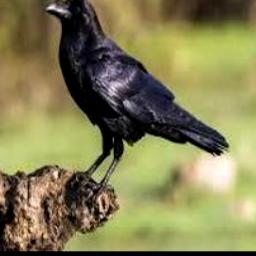Crow: (43, 0, 229, 202)
